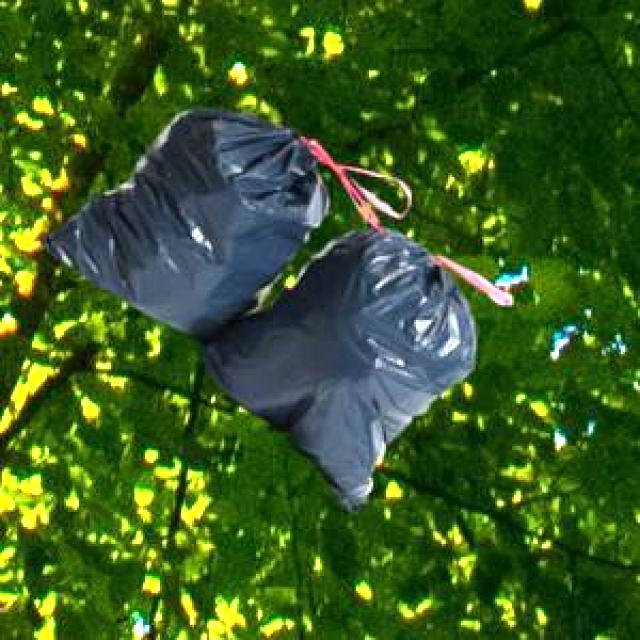Garbage_Bag: (37, 106, 509, 512)
